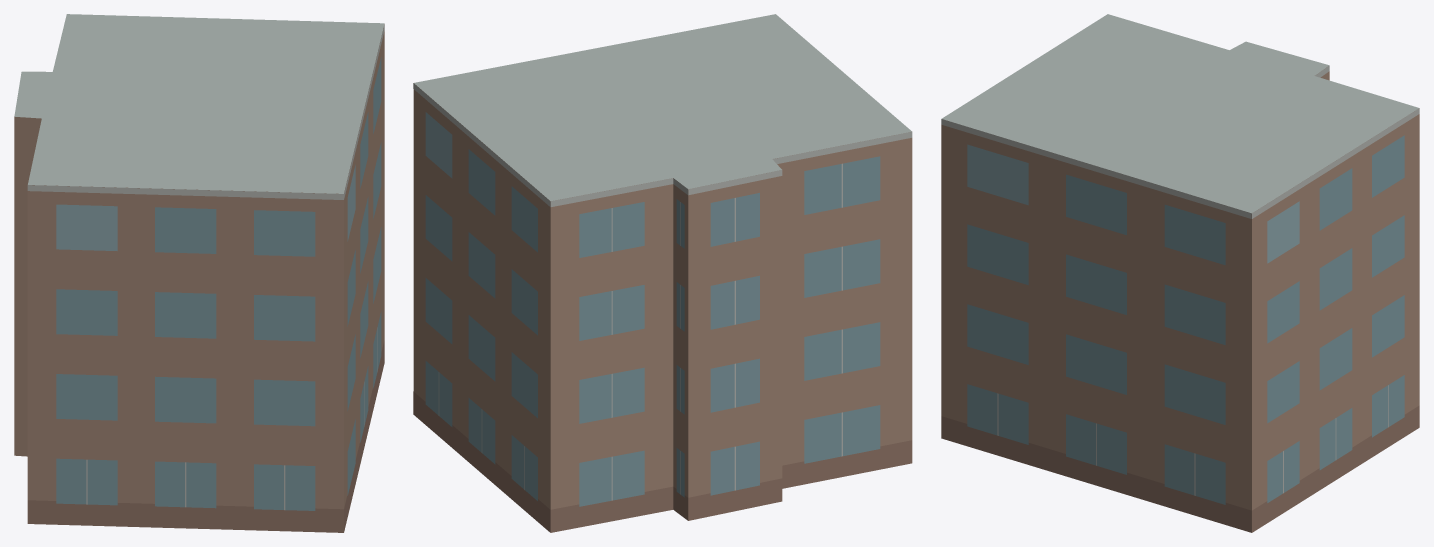
The model's file is survey-upis-32813563.glb.
3 views of the same model, side by side, from view 1: azimuth 30°, elevation 25°; view 2: azimuth 150°, elevation 25°; view 3: azimuth 270°, elevation 25° (orthographic). The views are drawn at different scales.
Visible parts, largest first — view 1: survey-upis-32813563.tmp; view 2: survey-upis-32813563.tmp; view 3: survey-upis-32813563.tmp.
Part boxes in pixels (x1,y1,x2,y2): survey-upis-32813563.tmp: [14, 14, 384, 532]; survey-upis-32813563.tmp: [413, 14, 912, 532]; survey-upis-32813563.tmp: [941, 14, 1419, 532].
Size of the model in its own units: 17.94 by 13.4 by 18.18.
